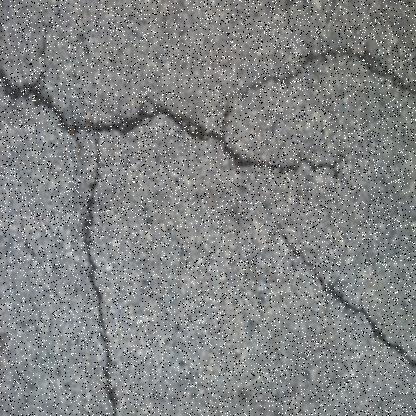Cracks: (0, 37, 415, 179), (274, 210, 416, 372), (80, 123, 121, 415)
